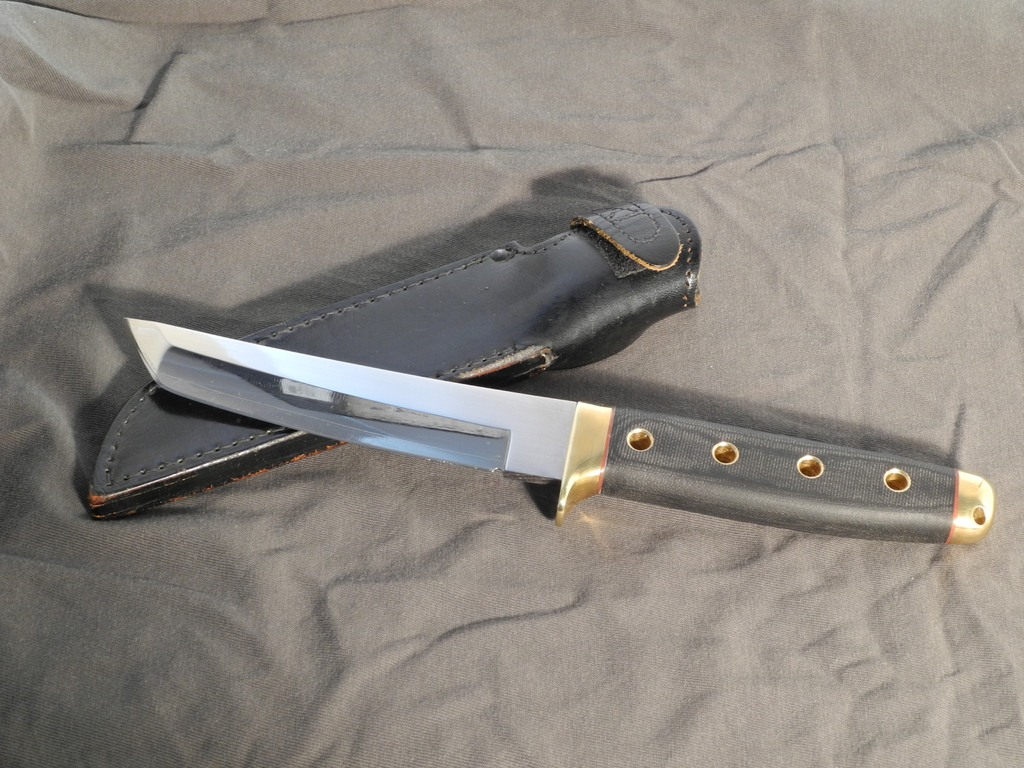kitchen knife: (122, 317, 995, 544)
